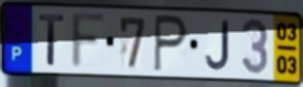3: (240, 17, 270, 77)
7: (117, 16, 147, 71)
F: (69, 11, 109, 72)
J: (204, 19, 232, 73)
P: (152, 12, 190, 75)
T: (37, 12, 67, 68)
